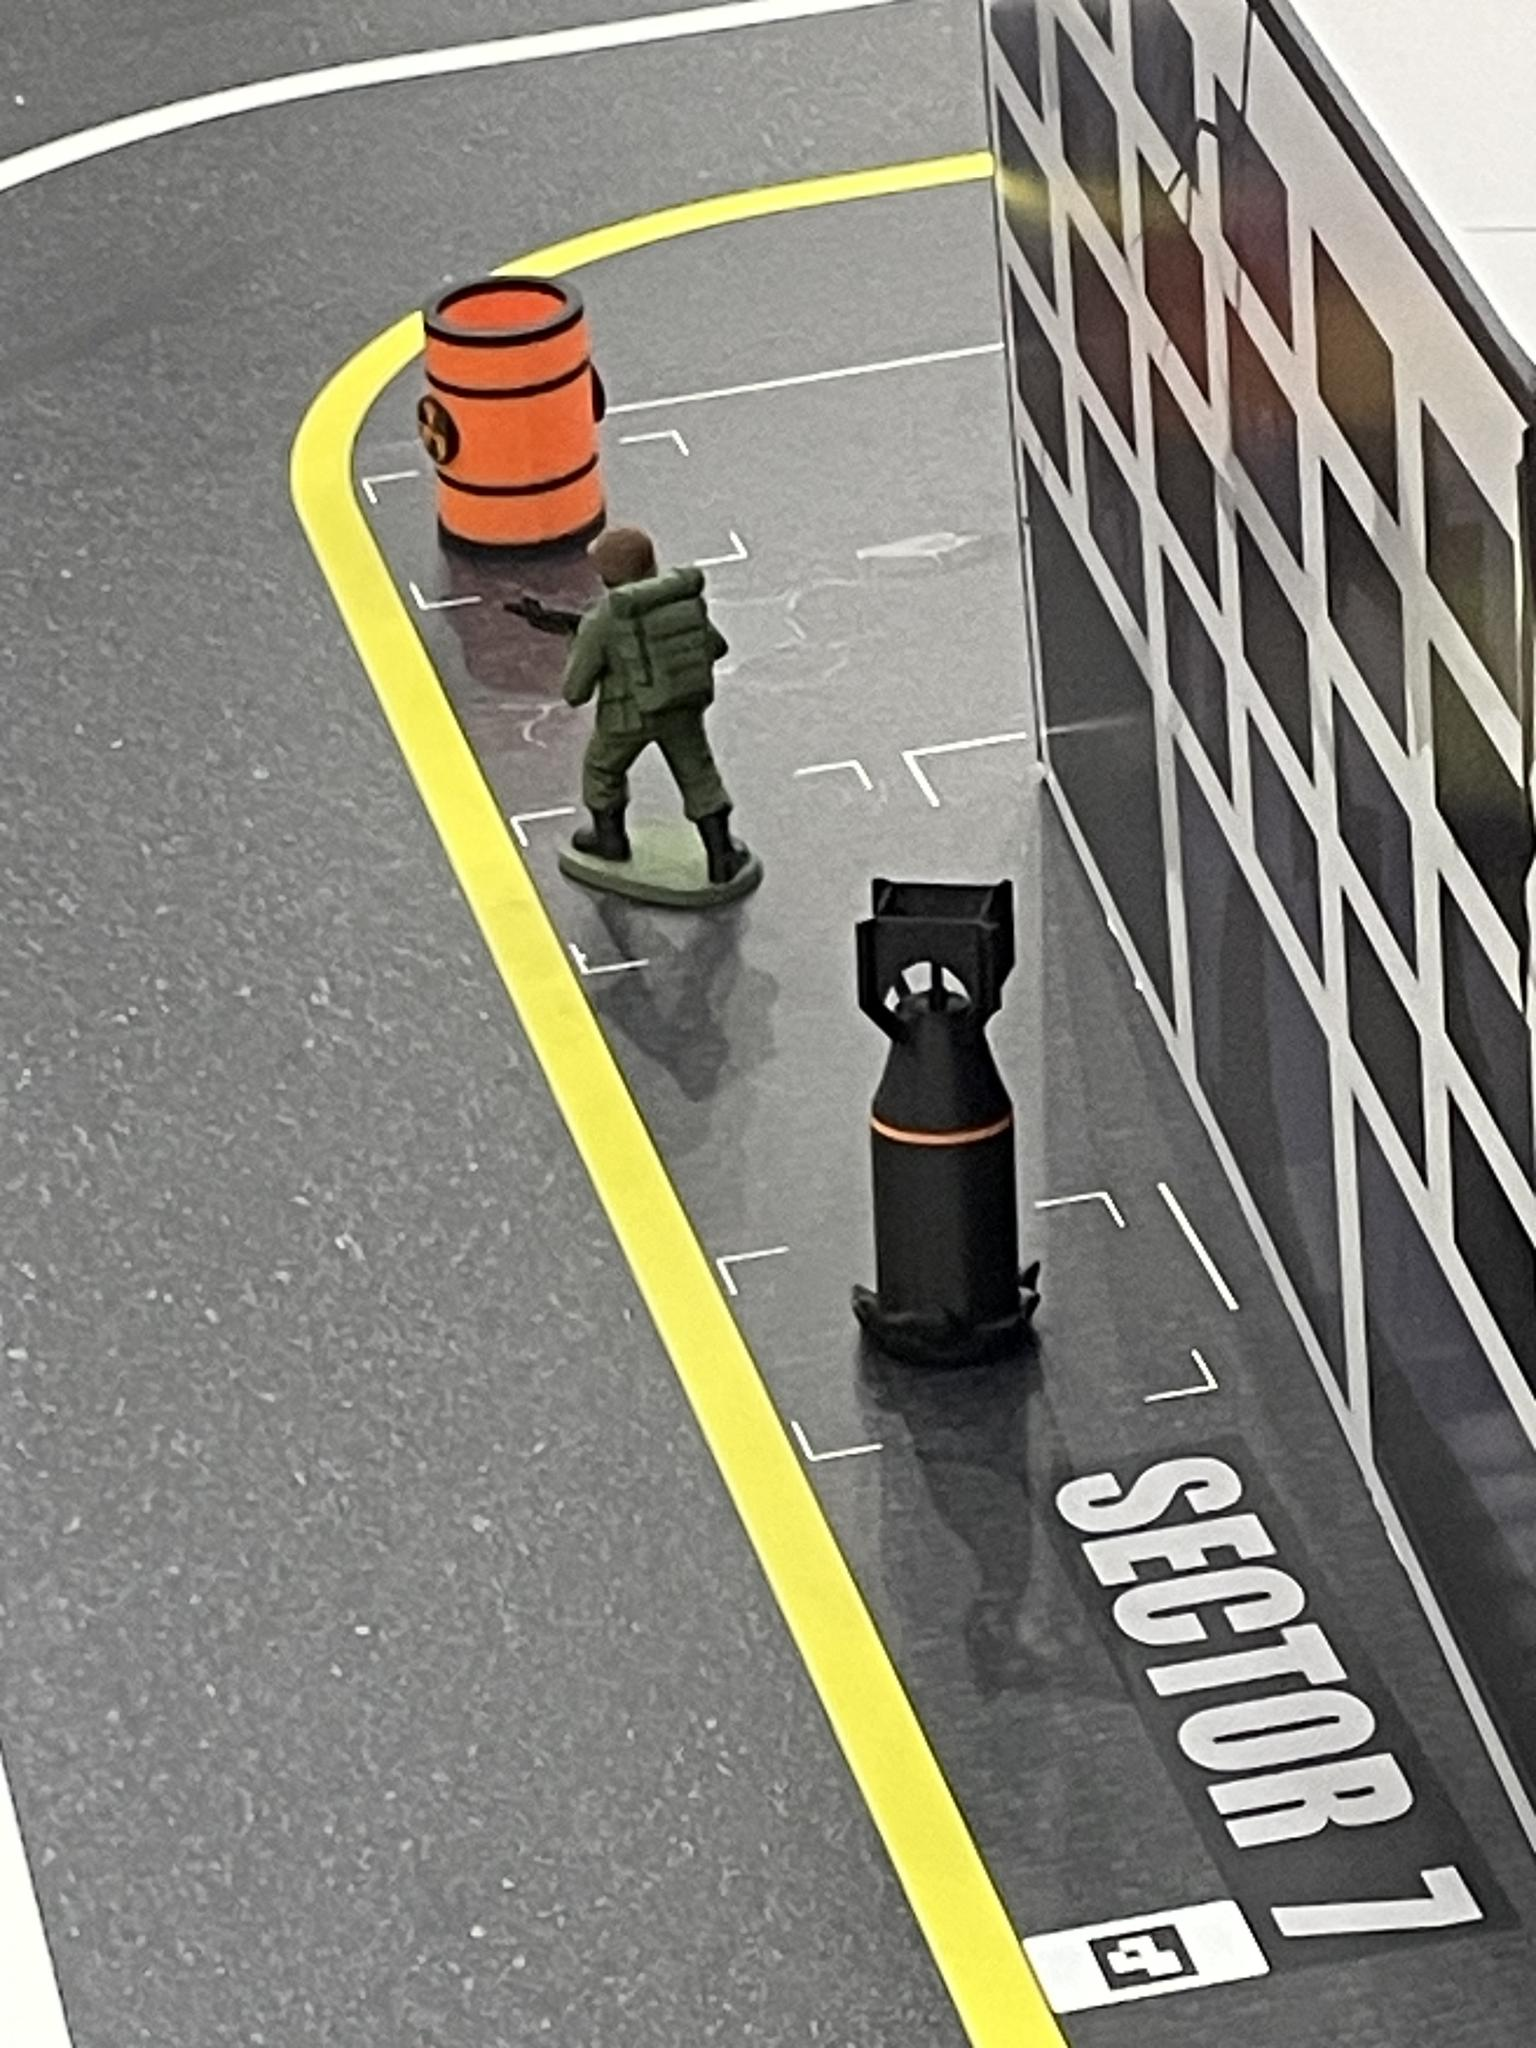Enemy: (510, 529, 779, 932)
Hazmat: (408, 266, 610, 553)
Missile: (844, 863, 1058, 1359)
